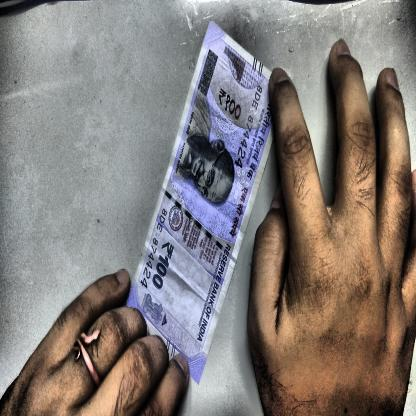Rs100: (149, 236, 177, 298)
